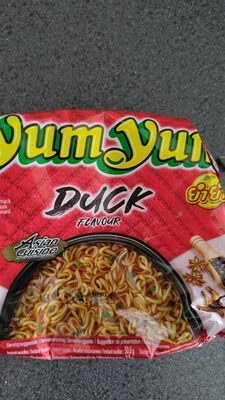Yum Yum Duck flavour: (11, 20, 214, 380)
